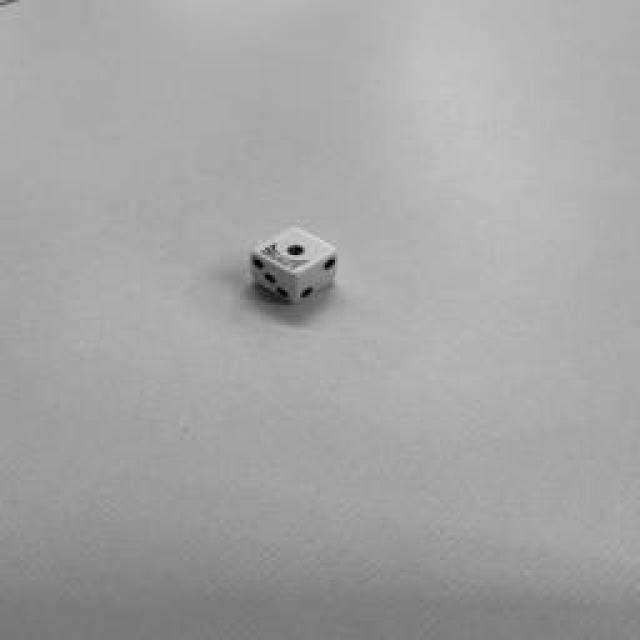dice_1: (252, 228, 332, 272)
